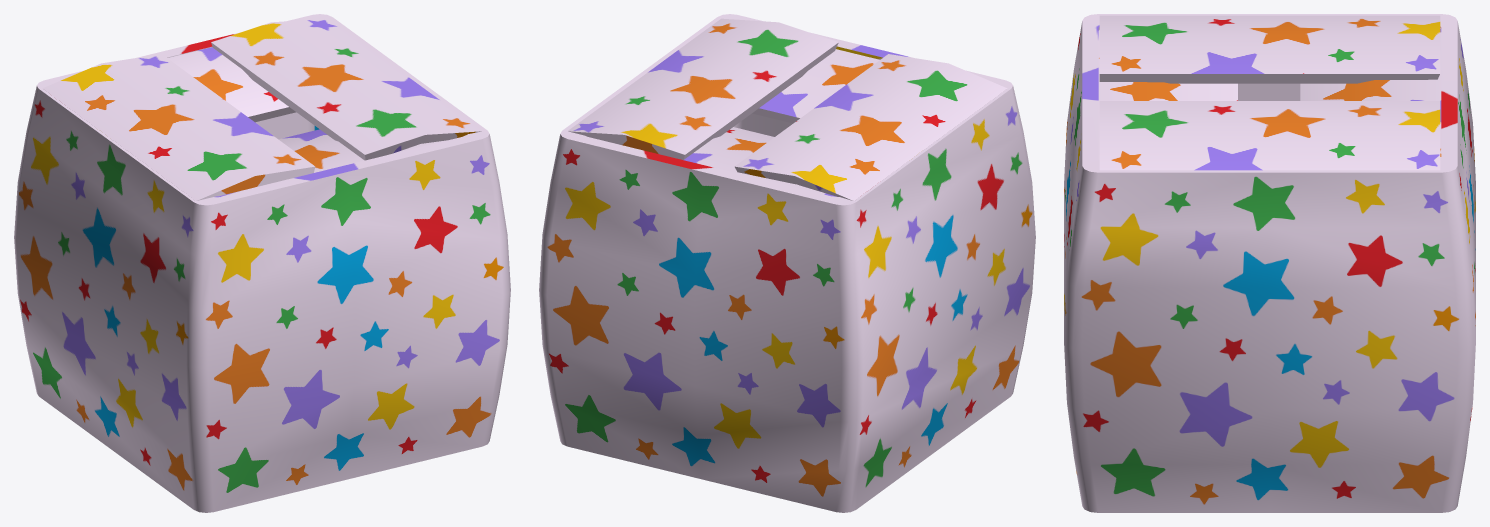
The model's file is Closed_Box.fbx.
3 renders of one model, left to right at view 1: azimuth 30°, elevation 25°; view 2: azimuth 150°, elevation 25°; view 3: azimuth 270°, elevation 25°, orthographic. The views are drawn at different scales.
Parts seen in each view (by area): view 1: Box, polySurface4, polySurface1, polySurface5, polySurface3; view 2: Box, polySurface4, polySurface1, polySurface3, polySurface5; view 3: Box, polySurface1, polySurface4, polySurface5, polySurface3.
Part boxes in pixels (<box>): Box: <box>14,14,510,512</box>; polySurface4: <box>42,54,315,200</box>; polySurface1: <box>211,18,481,160</box>; polySurface5: <box>167,47,295,122</box>; polySurface3: <box>278,129,446,172</box>; Box: <box>539,14,1035,512</box>; polySurface4: <box>734,54,1007,200</box>; polySurface1: <box>568,18,838,159</box>; polySurface3: <box>752,49,879,123</box>; polySurface5: <box>683,127,836,196</box>; Box: <box>1064,14,1475,512</box>; polySurface1: <box>1099,101,1440,170</box>; polySurface4: <box>1099,15,1440,83</box>; polySurface5: <box>1300,27,1441,159</box>; polySurface3: <box>1098,30,1237,159</box>.
Bounding box in the file's own units: 5.34 × 5.04 × 5.34.
1 material, 1 textured.
